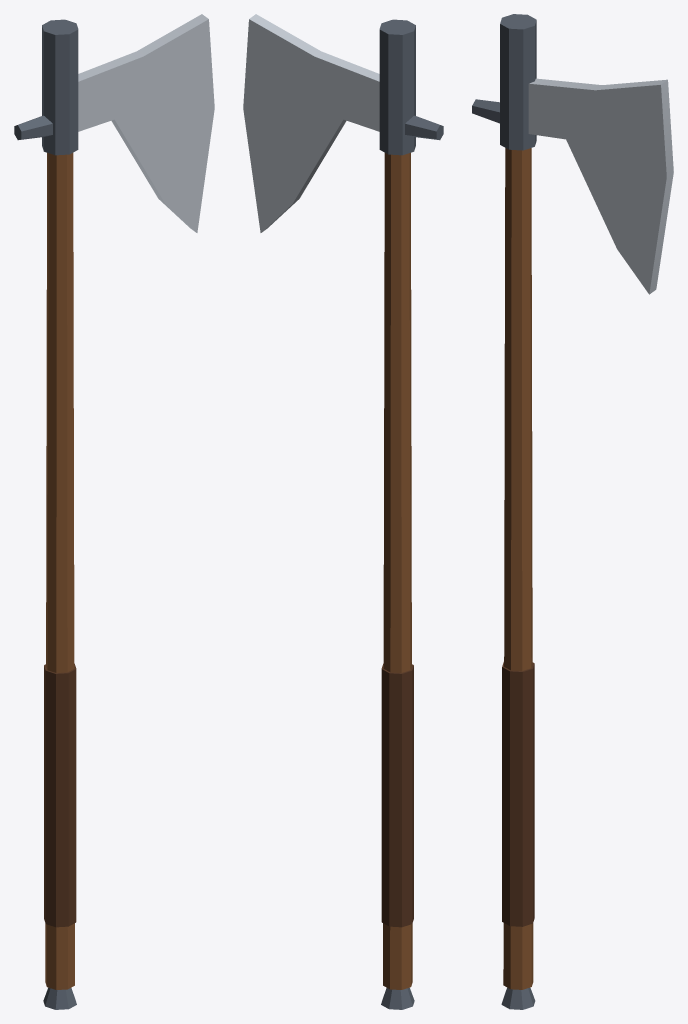
The model's file is TwoHandAxe.fbx.
The picture shows the model from 3 angles, left to right: view 1: azimuth 30°, elevation 25°; view 2: azimuth 150°, elevation 25°; view 3: azimuth 330°, elevation 25°; orthographic projection.
Visible parts, largest first — view 1: TwoHandAxe; view 2: TwoHandAxe; view 3: TwoHandAxe.
Part boxes in pixels (<box>): TwoHandAxe: <box>14,14,214,1009</box>; TwoHandAxe: <box>243,14,443,1009</box>; TwoHandAxe: <box>472,14,673,1009</box>.
Size of the model in its own units: 0.3196 by 1.54 by 0.054.
